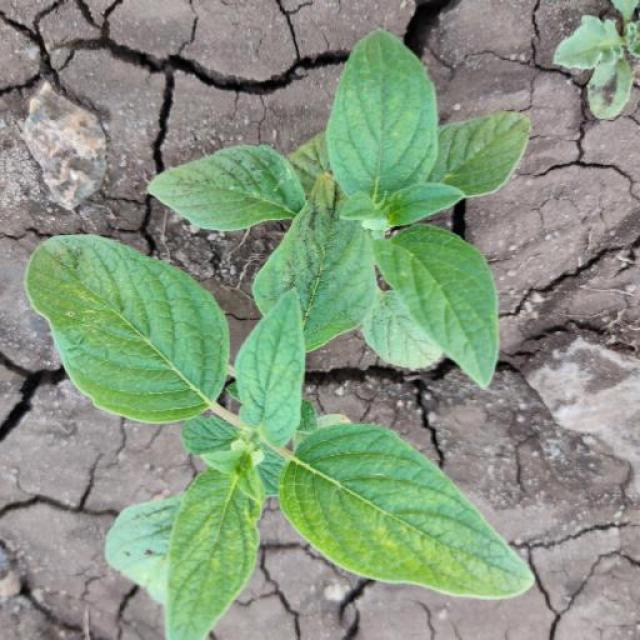crop: (16, 19, 544, 640)
